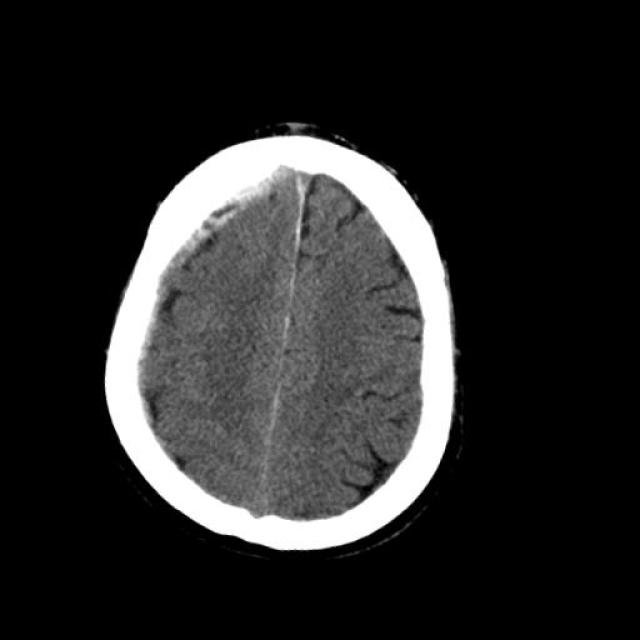Subdural: (119, 138, 292, 332)
